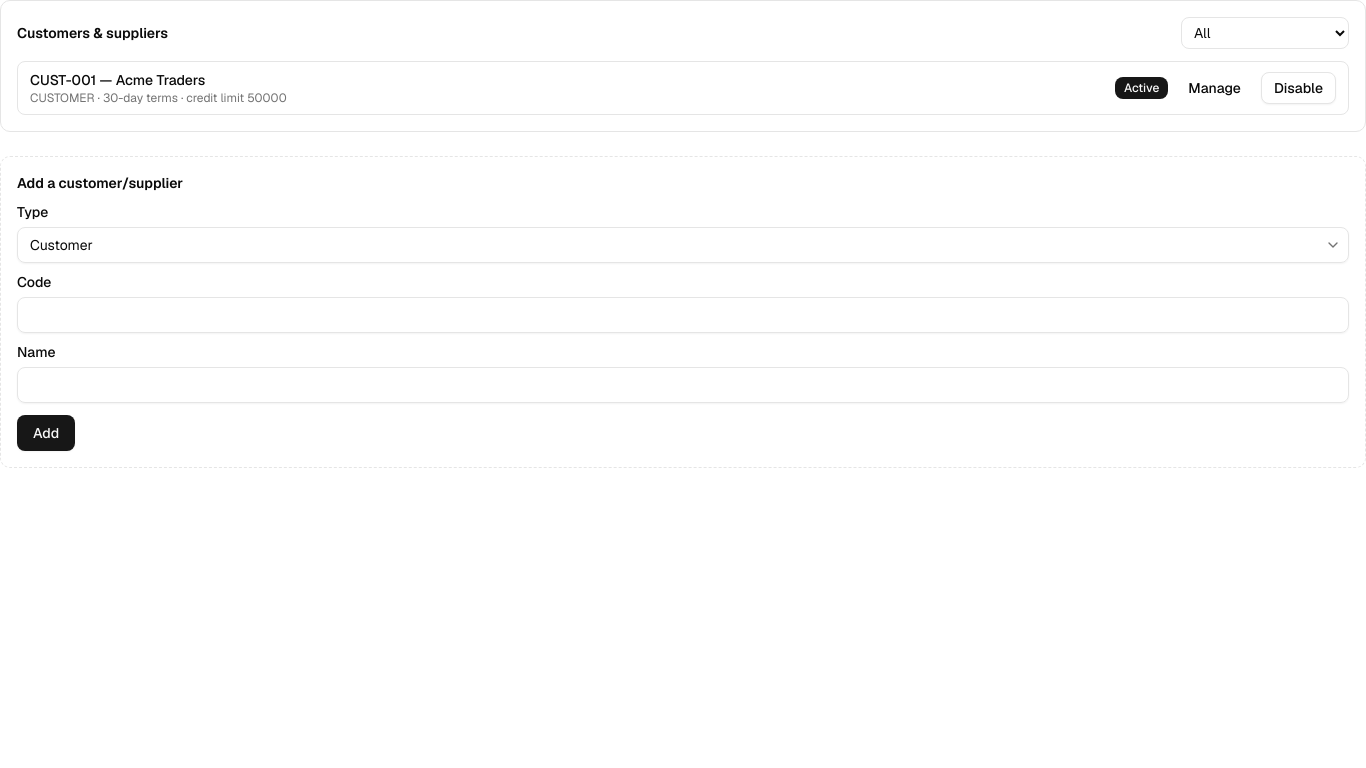
Test: BusinessPartnerPanel › opens the detail dialog for a partner
This screenshot has width=1366, height=768.
Expected: the text "CUST-001 — Acme Traders" is shown, [30,71,205,89]
What coordinates should you click on to do the following:
click the button "Manage"
I would click on:
 (1215, 88)
Its box is [1176,72,1253,104].
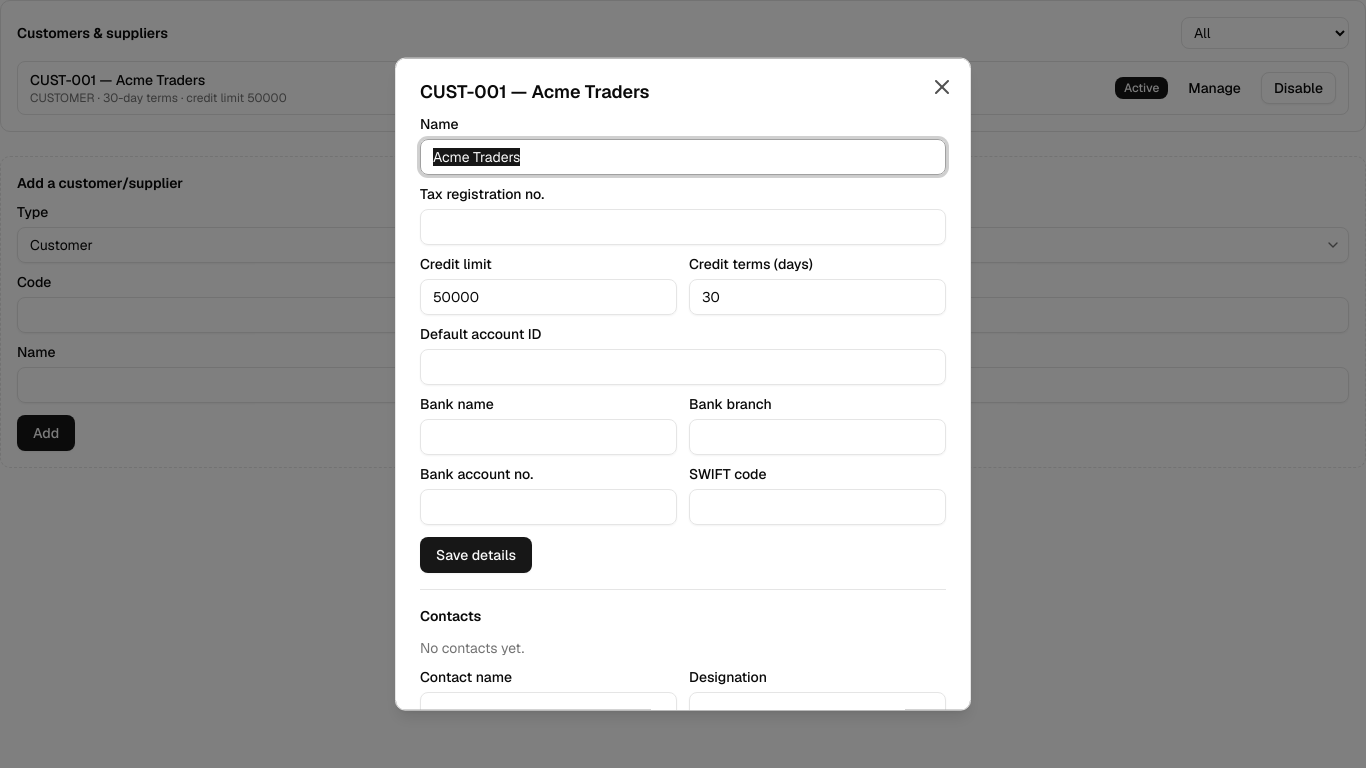
Expected: the heading "CUST-001 — Acme Traders" is shown, [420,80,650,103]
